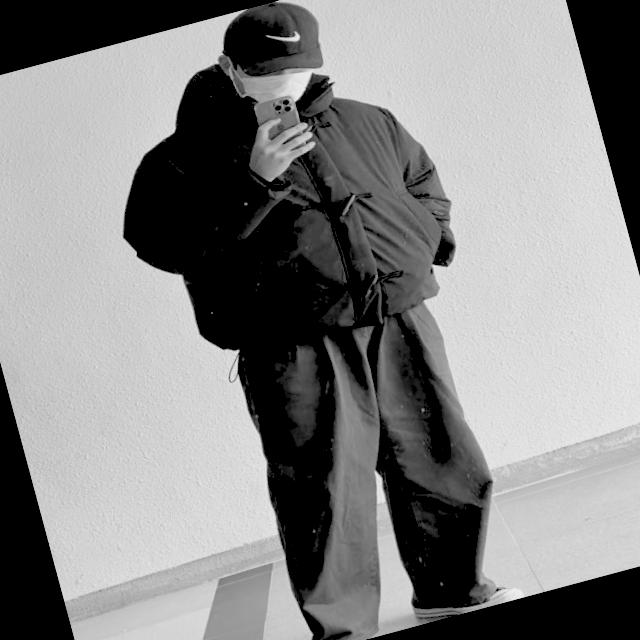cottonpants: (220, 290, 523, 640)
padding: (86, 13, 477, 382)
